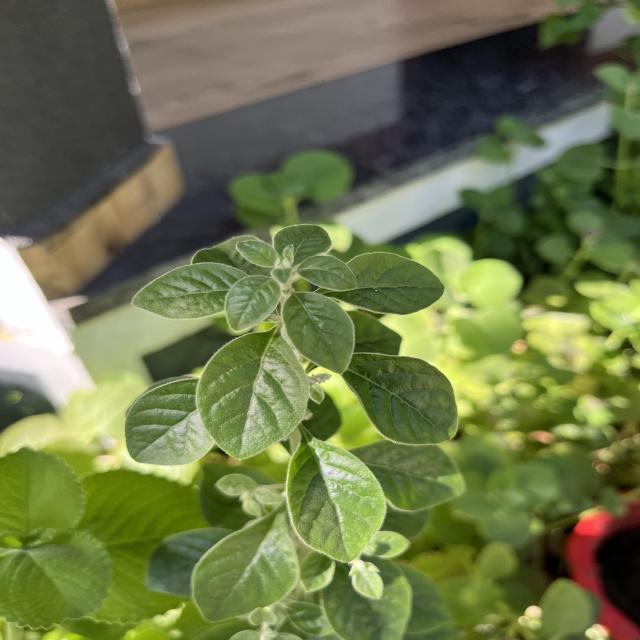Aerva lanata: (193, 328, 312, 462), (283, 430, 389, 565), (341, 351, 462, 449), (123, 375, 217, 468), (319, 250, 447, 317), (128, 259, 249, 323)
